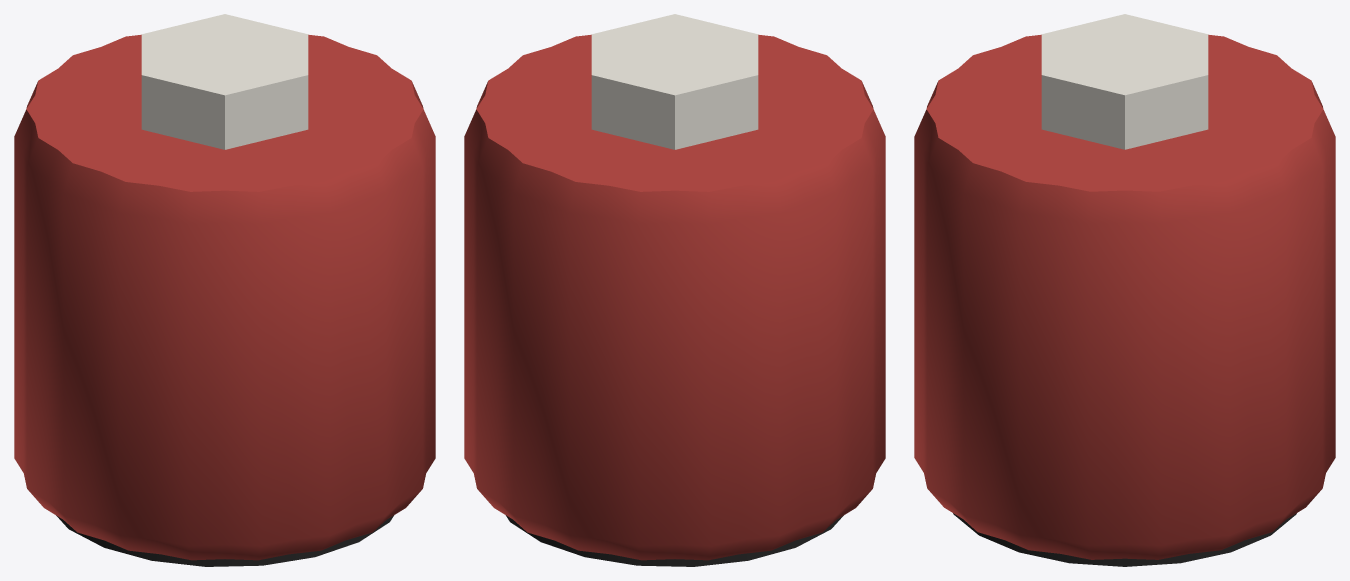
The model's file is oil.glb.
3 views of the same model, side by side, from view 1: azimuth 30°, elevation 25°; view 2: azimuth 150°, elevation 25°; view 3: azimuth 270°, elevation 25° (orthographic).
Parts seen in each view (by area): view 1: lod0; view 2: lod0; view 3: lod0.
Boxes of the visible parts, x1,y1,x2,y2 form: lod0: (14,14,435,566); lod0: (464,14,885,566); lod0: (914,14,1335,566).
Size of what is drawn, in the model's own units: 0.0689 by 0.08 by 0.07.
